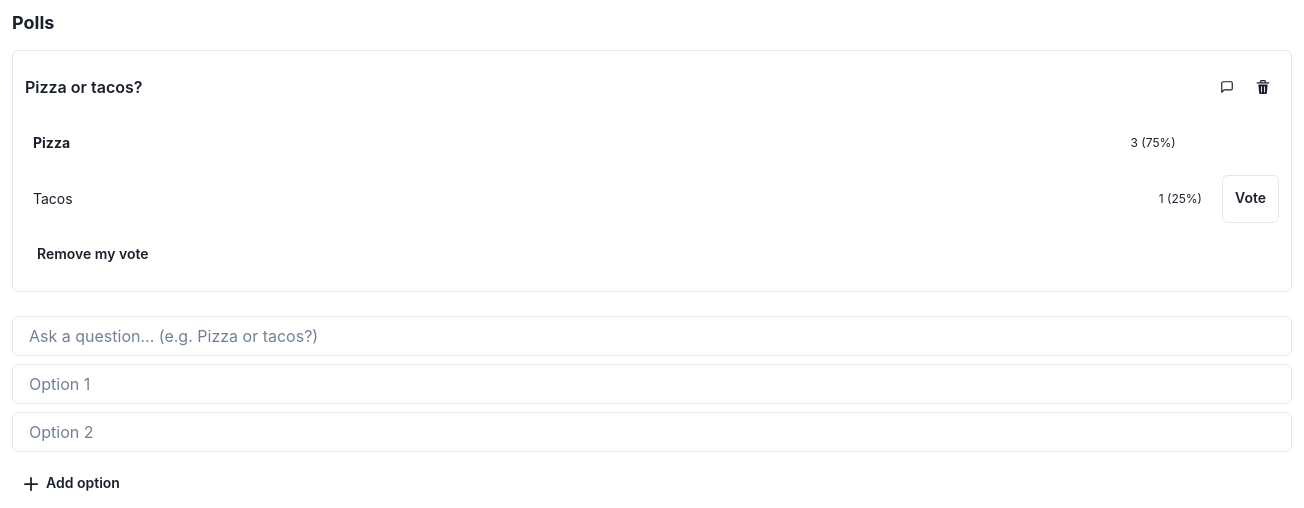
Test: EventPolls Component › removes a vote via DELETE to the vote endpoint
Expected: the text "Pizza or tacos?" is shown, left=25, top=75, right=142, bottom=99
Click the button "Remove my vote".
click(93, 255)  # box left=25, top=231, right=161, bottom=279
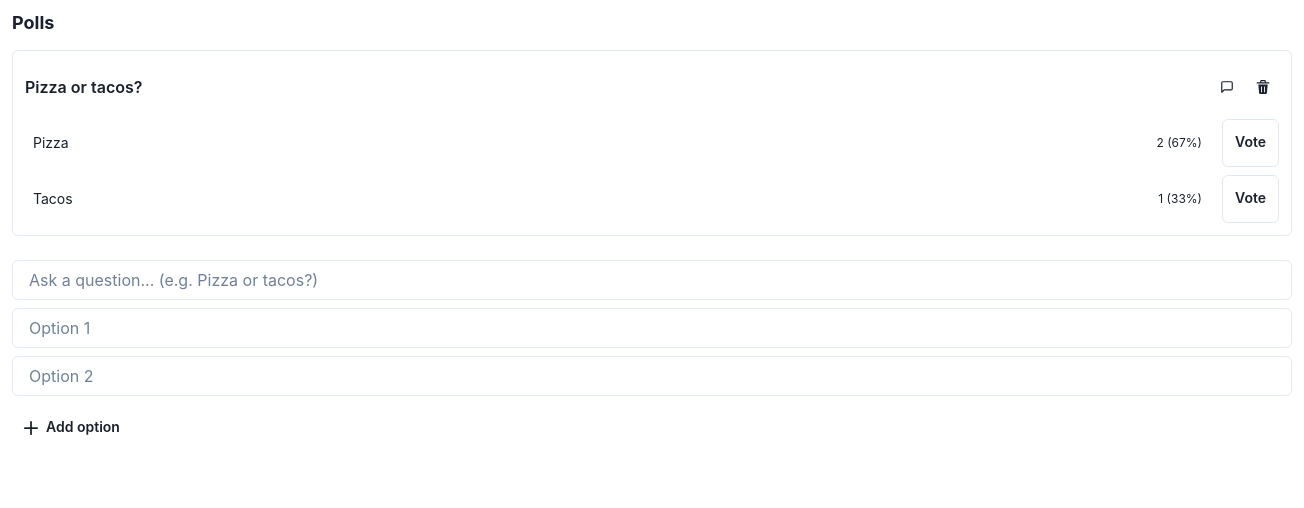
Expected: the button "Remove my vote" is gone
